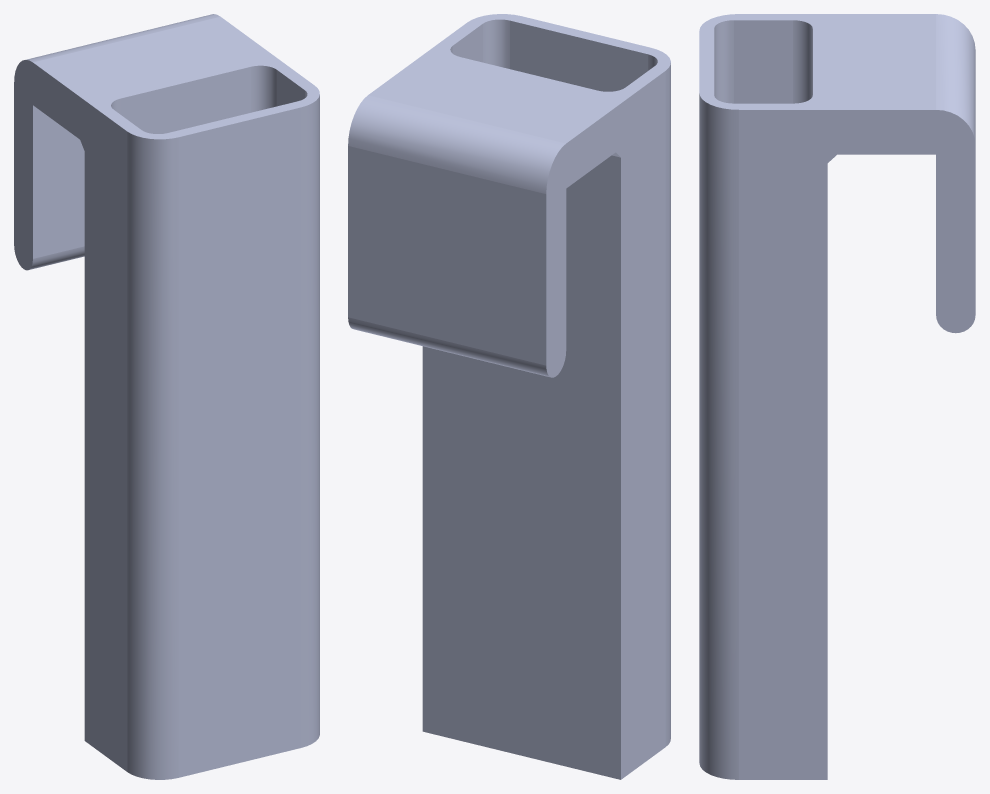
The model's file is scissor-holder.glb.
The picture shows the model from 3 angles, left to right: view 1: azimuth 30°, elevation 25°; view 2: azimuth 150°, elevation 25°; view 3: azimuth 270°, elevation 25°; orthographic projection. The views are drawn at different scales.
Visible parts, largest first — view 1: empty_2; view 2: empty_2; view 3: empty_2.
Boxes of the visible parts, x1,y1,x2,y2 form: empty_2: [14, 14, 319, 779]; empty_2: [348, 14, 670, 779]; empty_2: [699, 14, 975, 779].
Bounding box in the file's own units: 23 × 75 × 28.
